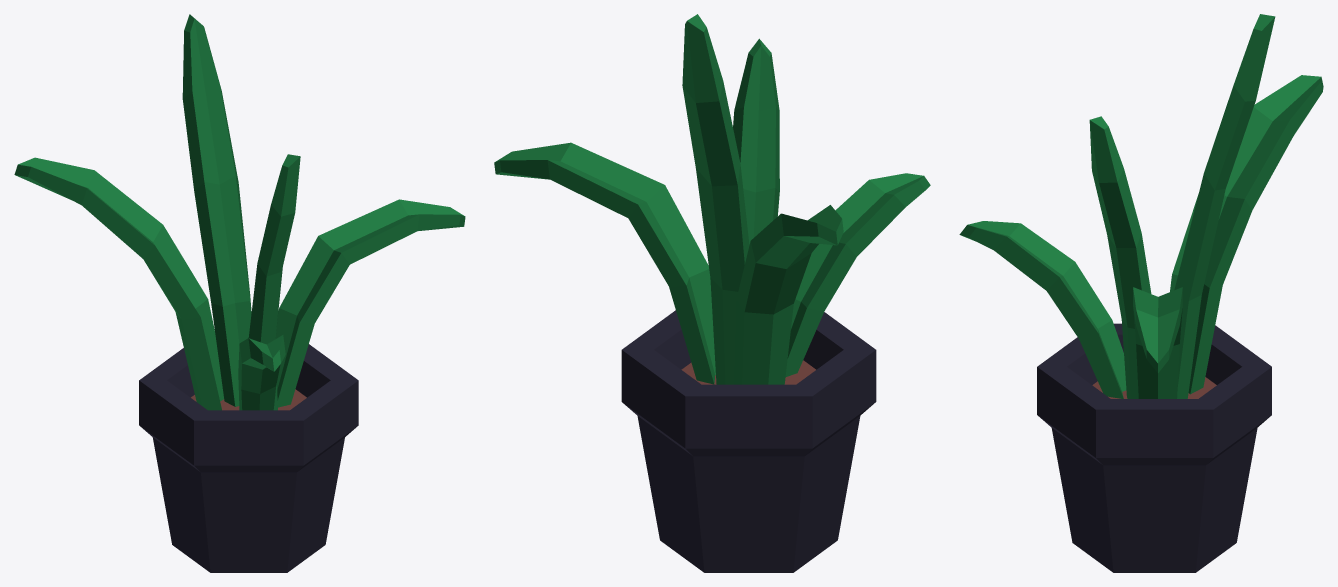
The model's file is PlantPot.FBX.
3 renders of one model, left to right at view 1: azimuth 30°, elevation 25°; view 2: azimuth 150°, elevation 25°; view 3: azimuth 270°, elevation 25°, orthographic. The views are drawn at different scales.
Visible parts, largest first — view 1: Plant_Pot_01; view 2: Plant_Pot_01; view 3: Plant_Pot_01.
Part boxes in pixels (bbox=[...]): Plant_Pot_01: bbox=[14, 14, 465, 572]; Plant_Pot_01: bbox=[494, 14, 930, 572]; Plant_Pot_01: bbox=[959, 14, 1323, 572].
Bounding box in the file's own units: 43.23 × 54.32 × 34.07.
